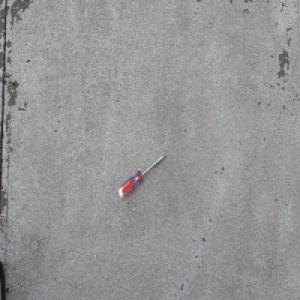Screwdriver: (118, 152, 166, 198)
